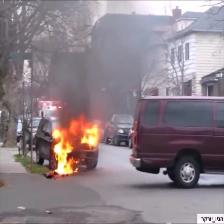fire: (46, 124, 102, 176)
smoke: (60, 39, 141, 103)
